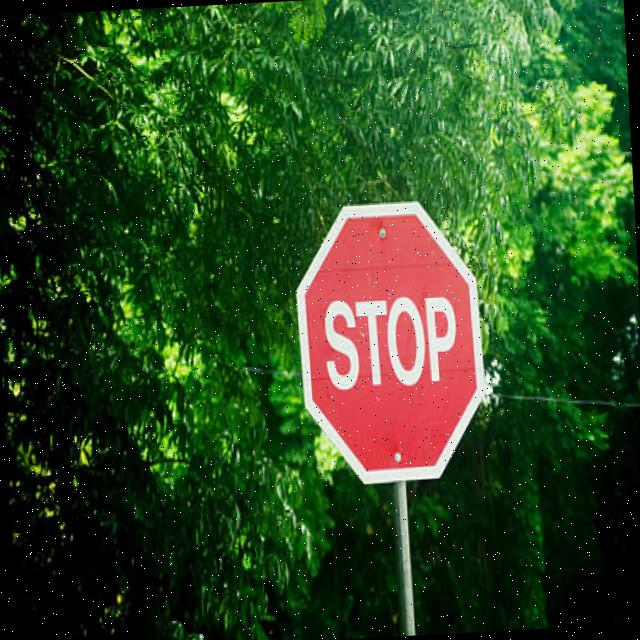stop: (284, 183, 490, 495)
